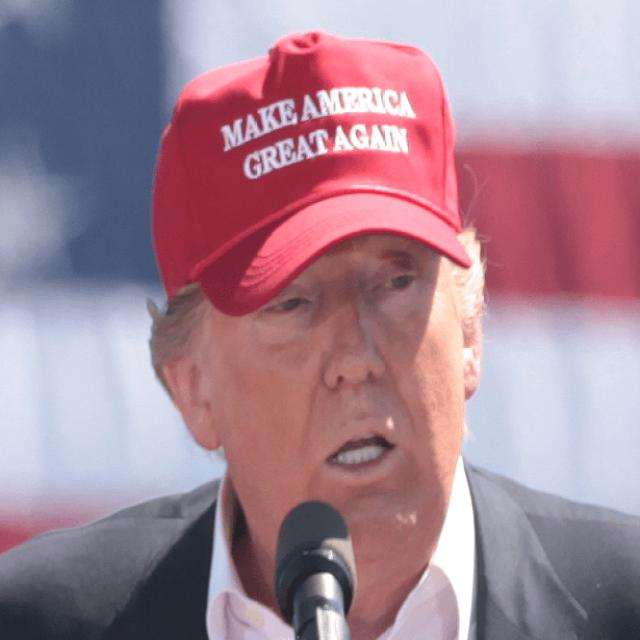3_gorra: (151, 30, 472, 320)
